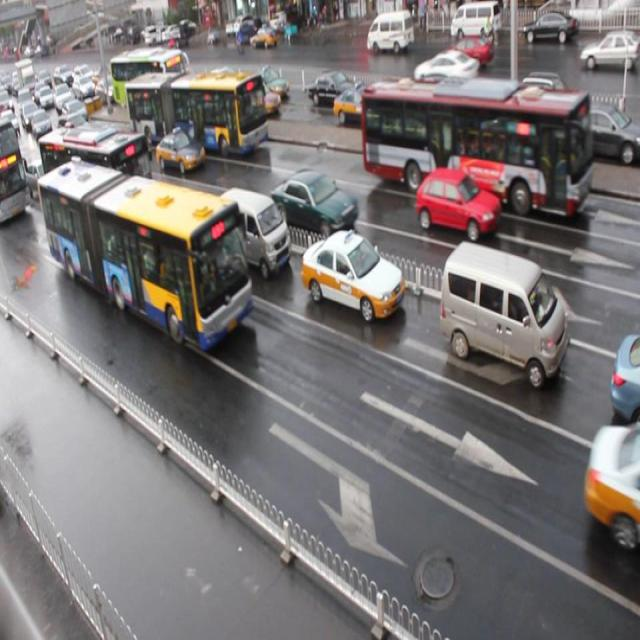car: (300, 229, 403, 321), (583, 417, 640, 547), (414, 166, 499, 239), (270, 167, 359, 236), (565, 99, 640, 166), (486, 91, 560, 156), (140, 188, 208, 252), (608, 330, 640, 432), (516, 88, 570, 145), (437, 76, 496, 122), (157, 126, 206, 171), (332, 86, 383, 129), (238, 77, 280, 119), (22, 160, 62, 204), (307, 75, 357, 108), (187, 76, 225, 114), (208, 66, 250, 99), (250, 65, 288, 100)
truck: (438, 240, 568, 389), (215, 188, 290, 284)
van: (37, 156, 254, 356), (360, 78, 592, 216), (38, 127, 154, 235), (125, 69, 268, 155), (110, 50, 186, 114)
